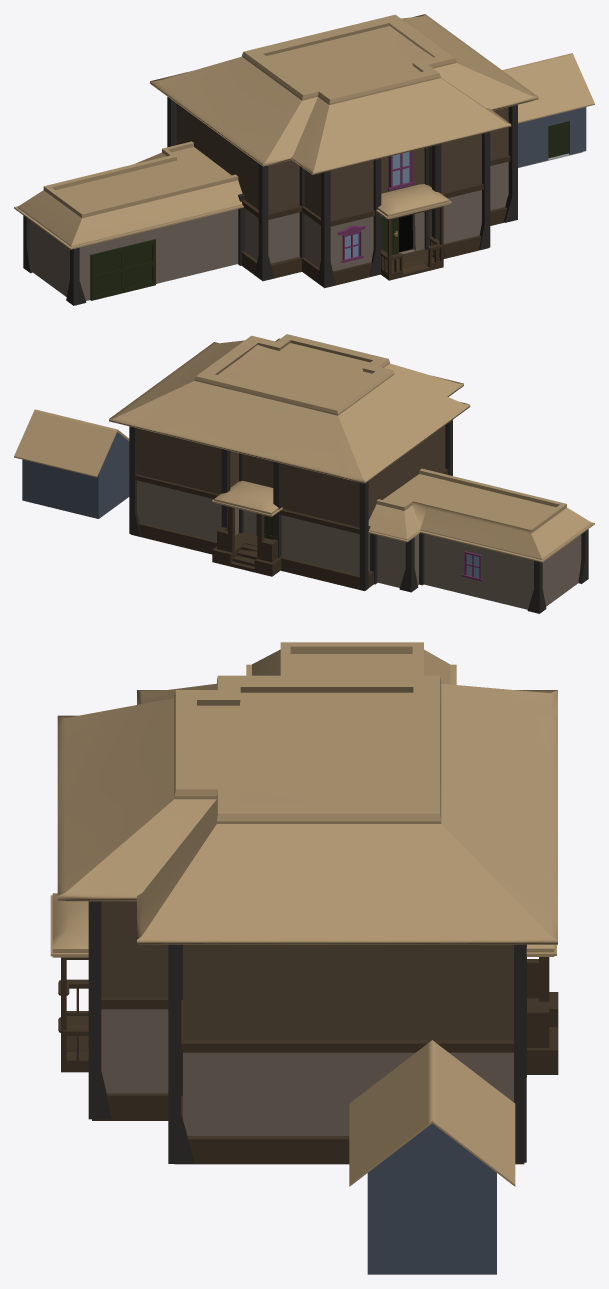
Rendered from MansionShell_Done.fbx.
3 views of the same model, one above another, from view 1: azimuth 30°, elevation 25°; view 2: azimuth 150°, elevation 25°; view 3: azimuth 270°, elevation 25° (orthographic). The views are drawn at different scales.
Visible parts, largest first — view 1: MansionRoof, Floor_1, GarageRoof, Floor_2, CornerFrame2, Shell_Base, Shed_Roof, Mansion_Door1, Shed, FrontDoor_Roof, Floor_Separator, Shed_Door (+5 smaller); view 2: MansionRoof, Floor_1, GarageRoof, Floor_2, CornerFrame2, Shed, Shed_Roof, BackDoor_Porch, Shell_Base, BackDoor_Roof, Floor_Separator; view 3: MansionRoof, Floor_2, Floor_1, Shed, Shed_Roof, CornerFrame2, Shell_Base, GarageRoof, Floor_Separator, BackDoor_Porch, FrontDoor_Roof.
Boxes of the visible parts, box(x1,y1,x2,y2) form: MansionRoof: box(150, 14, 538, 174); Floor_1: box(29, 162, 508, 300); GarageRoof: box(14, 141, 243, 249); Floor_2: box(176, 103, 508, 220); CornerFrame2: box(23, 97, 517, 305); Shell_Base: box(241, 206, 507, 288); Shed_Roof: box(502, 53, 594, 123); Mansion_Door1: box(90, 239, 155, 300); Shed: box(518, 107, 586, 167); FrontDoor_Roof: box(376, 184, 451, 219); Floor_Separator: box(241, 154, 510, 226); Shed_Door: box(548, 121, 568, 158); MansionRoof: box(109, 334, 470, 483); Floor_1: box(137, 480, 581, 609); GarageRoof: box(368, 468, 594, 562); Floor_2: box(137, 425, 445, 527); CornerFrame2: box(129, 420, 588, 613); Shed: box(22, 432, 129, 518); Shed_Roof: box(14, 409, 129, 477); BackDoor_Porch: box(212, 506, 282, 576); Shell_Base: box(130, 523, 373, 590); BackDoor_Roof: box(211, 480, 282, 516); Floor_Separator: box(135, 468, 448, 533); MansionRoof: box(57, 675, 557, 944); Floor_2: box(101, 901, 513, 1040); Floor_1: box(101, 1009, 513, 1135); Shed: box(367, 1123, 496, 1274); Shed_Roof: box(349, 1040, 515, 1186); CornerFrame2: box(88, 901, 526, 1163); Shell_Base: box(58, 957, 524, 1164); GarageRoof: box(246, 642, 456, 684); Floor_Separator: box(101, 997, 513, 1052); BackDoor_Porch: box(527, 957, 558, 1074); FrontDoor_Roof: box(50, 893, 88, 957).
Size of the model in its own units: 579 by 166 by 248.
